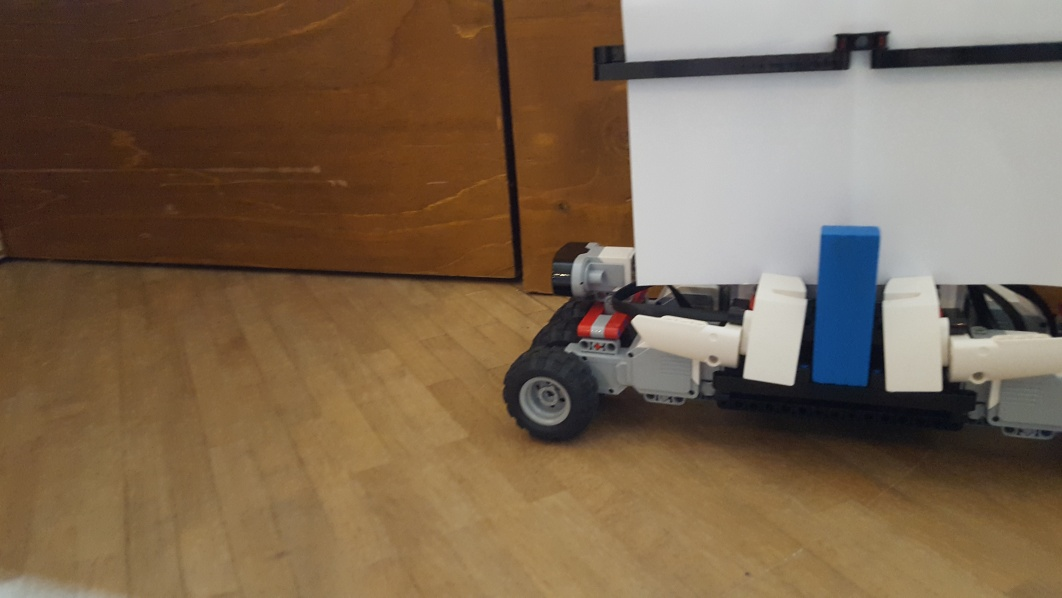beam: (808, 222, 881, 388)
